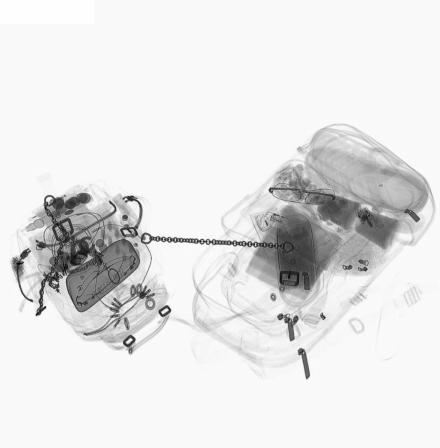Lighter: (269, 212, 309, 233)
